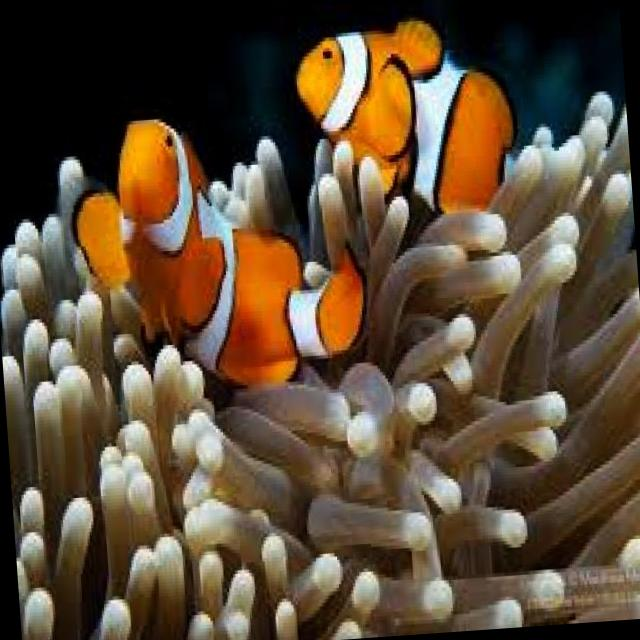ClownFish: (67, 101, 370, 396), (297, 13, 532, 232)
